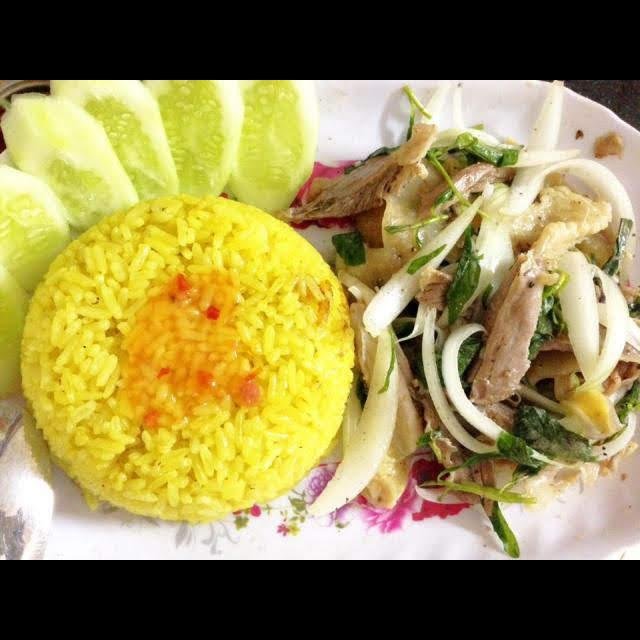com: (15, 191, 359, 527)
rau ram: (432, 393, 605, 558), (381, 130, 524, 239), (523, 263, 569, 364)
thit ga: (409, 249, 563, 408), (403, 375, 536, 518), (272, 118, 442, 228), (517, 311, 640, 406), (414, 159, 520, 223)
